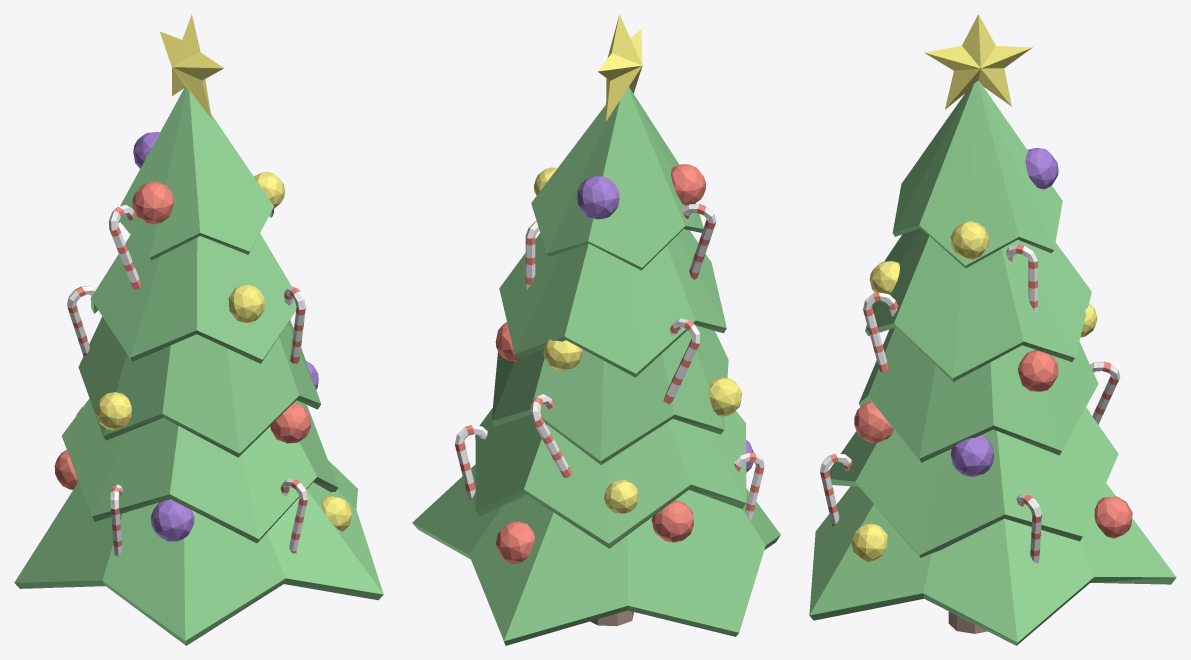
3 renders of one model, left to right at view 1: azimuth 30°, elevation 25°; view 2: azimuth 150°, elevation 25°; view 3: azimuth 270°, elevation 25°, orthographic.
Visible parts, largest first — view 1: group558281359, group148092846, group667748054, group615263083, group1540402439, group1827880687, group1410509470, group1089073295, group1164989660, group1127207942, group179461400, group77345095 (+8 smaller); view 2: group558281359, group148092846, group615263083, group667748054, group1540402439, group1827880687, group2051798186, group1832615123, group411241951, group1089073295, group1969426104, group948351503 (+8 smaller); view 3: group558281359, group148092846, group615263083, group667748054, group1540402439, group1827880687, group214022184, group1633066821, group411241951, group922588407, group1164989660, group1084830891 (+7 smaller).
Part boxes in pixels (x1,y1,x2,y2): group558281359: (14, 460, 383, 645); group148092846: (62, 398, 338, 543); group667748054: (78, 316, 320, 457); group615263083: (90, 233, 296, 363); group1540402439: (118, 86, 273, 260); group1827880687: (159, 14, 223, 118); group1410509470: (151, 499, 194, 541); group1089073295: (132, 182, 173, 224); group1164989660: (270, 402, 310, 443); group1127207942: (228, 284, 265, 322); group179461400: (95, 392, 131, 430); group77345095: (109, 205, 140, 289); group558281359: (412, 464, 780, 645); group148092846: (475, 408, 746, 548); group615263083: (499, 229, 726, 377); group667748054: (491, 325, 728, 464); group1540402439: (531, 87, 703, 270); group1827880687: (597, 14, 642, 121); group2051798186: (576, 176, 619, 219); group1832615123: (651, 500, 693, 542); group411241951: (495, 521, 534, 563); group1089073295: (671, 164, 705, 206); group1969426104: (663, 318, 699, 403); group948351503: (530, 394, 572, 477); group558281359: (809, 483, 1176, 645); group148092846: (829, 407, 1118, 557); group615263083: (865, 228, 1091, 381); group667748054: (858, 327, 1098, 462); group1540402439: (892, 80, 1062, 268); group1827880687: (924, 14, 1032, 109); group214022184: (950, 435, 994, 476); group1633066821: (1018, 350, 1058, 391); group411241951: (1094, 496, 1132, 538); group922588407: (950, 221, 989, 259); group1164989660: (854, 401, 893, 443); group1084830891: (851, 523, 887, 561).
Bounding box in the file's own units: 0.8953 × 1.54 × 0.848.
